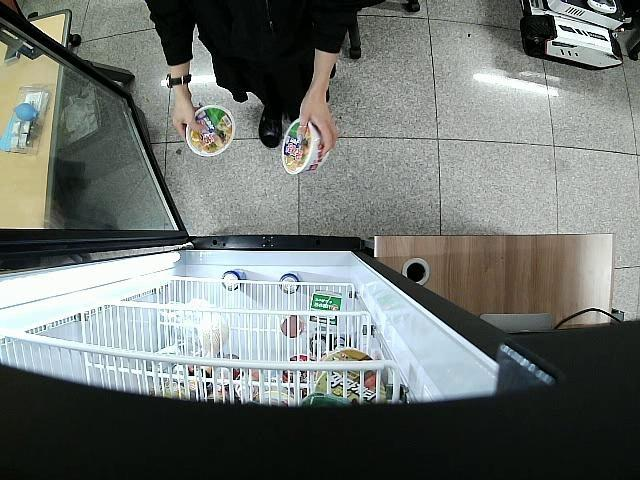09_yukGaeJang: (280, 117, 328, 178), (185, 102, 236, 158)
